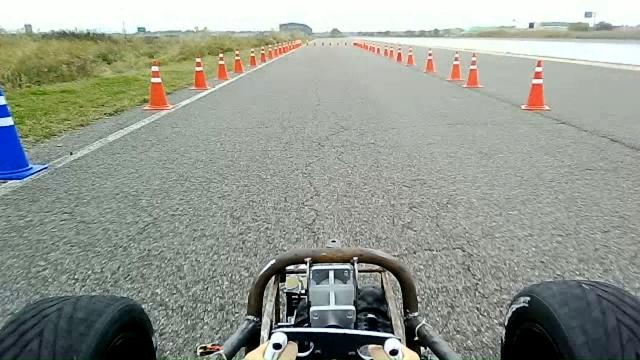red cone: (142, 58, 174, 111), (520, 58, 551, 111), (462, 52, 484, 88), (189, 53, 210, 90), (445, 48, 464, 82), (214, 48, 230, 81), (423, 47, 436, 74), (232, 49, 244, 73), (248, 47, 258, 67), (405, 46, 415, 66), (396, 44, 404, 63), (259, 46, 267, 63)
